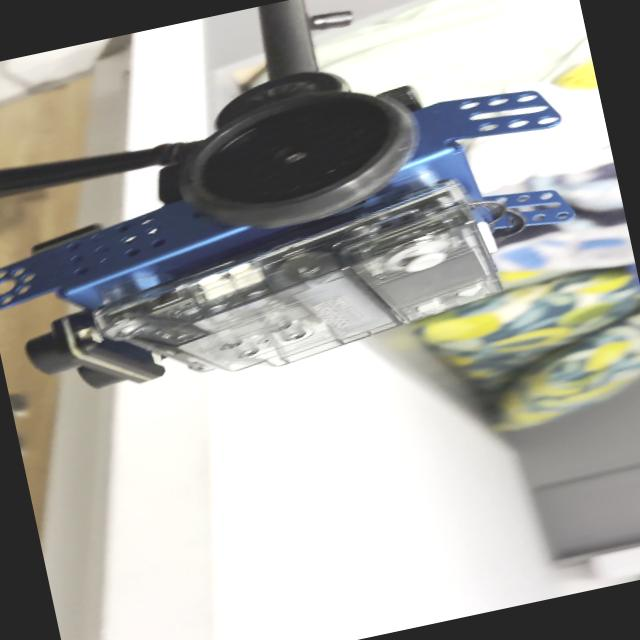mbot-detection: (0, 30, 609, 429)
